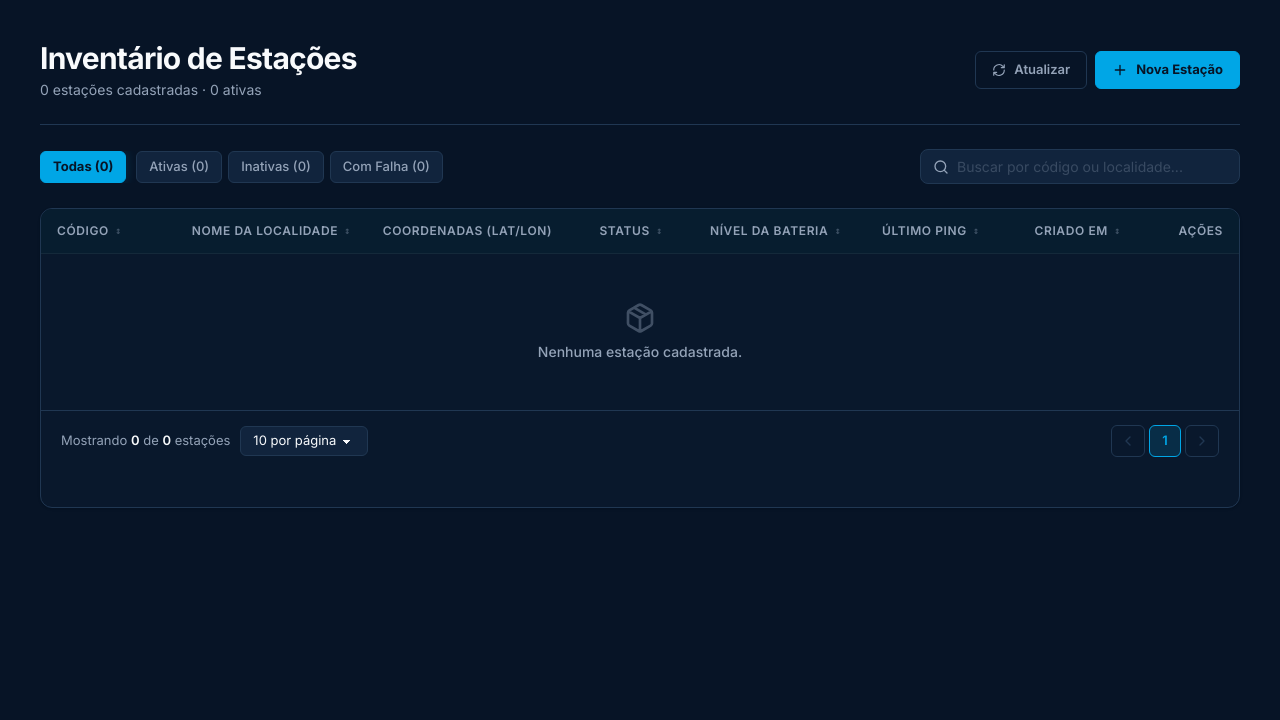
Test: Componente Stations - Casos de Uso BDD / Gherkin › Cenário 3: Tentativa de cadastro com coordenadas geográficas inválidas (latitude > 90)
Click the button with aria-label "+ Nova Estação".
click(1168, 70)  # box top-left (1095, 51), bottom-right (1240, 89)
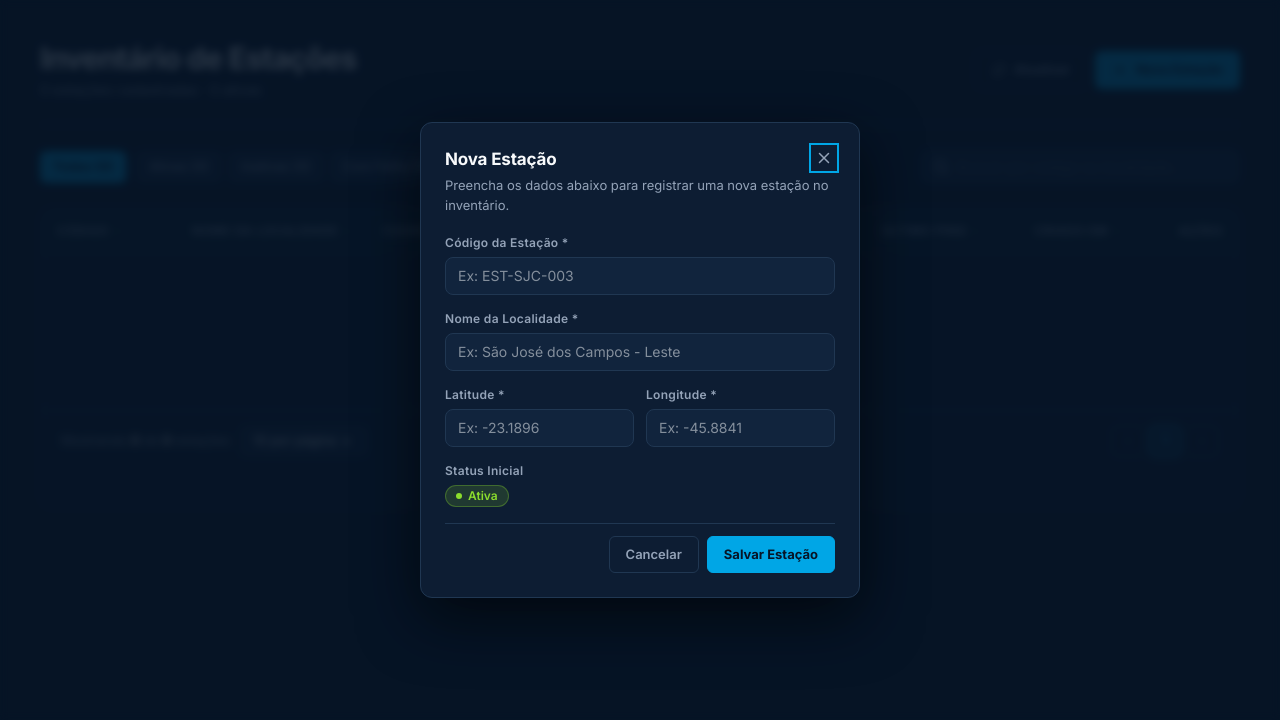
Type "EST-SJC-099" into the field labelled "Código da Estação *".
click(640, 276); type("EST-SJC-099")  # box top-left (445, 257), bottom-right (835, 295)
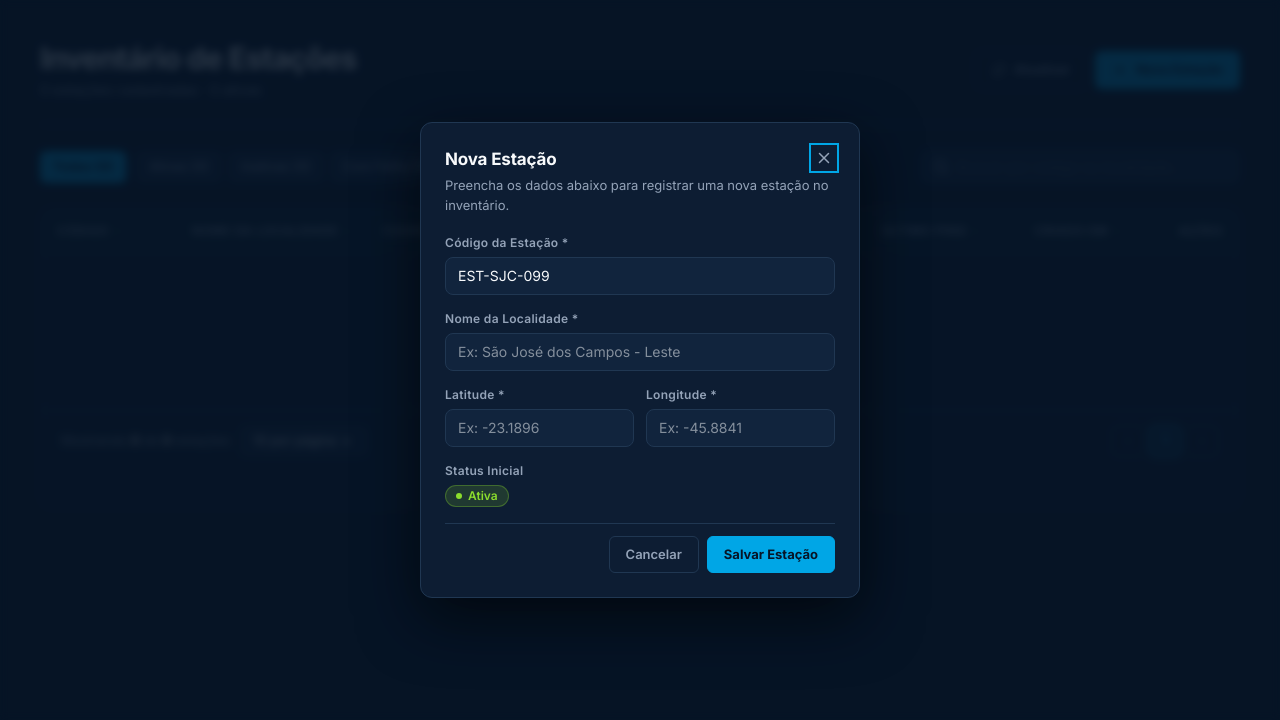
Type "Localidade Qualquer" into the field labelled "Nome da Localidade *".
click(640, 352); type("Localidade Qualquer")  # box top-left (445, 333), bottom-right (835, 371)
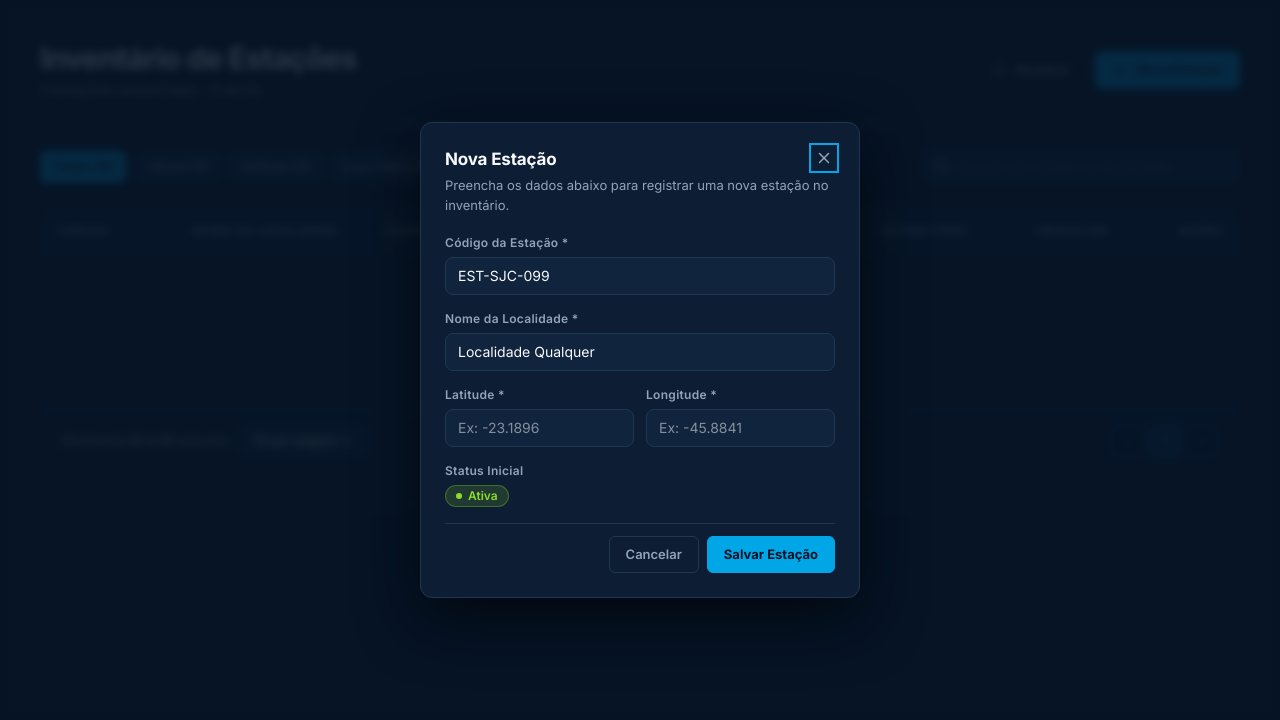
Type "92.500000" into the number field labelled "Latitude *".
click(540, 428); type("92.500000")  # box top-left (445, 409), bottom-right (634, 447)
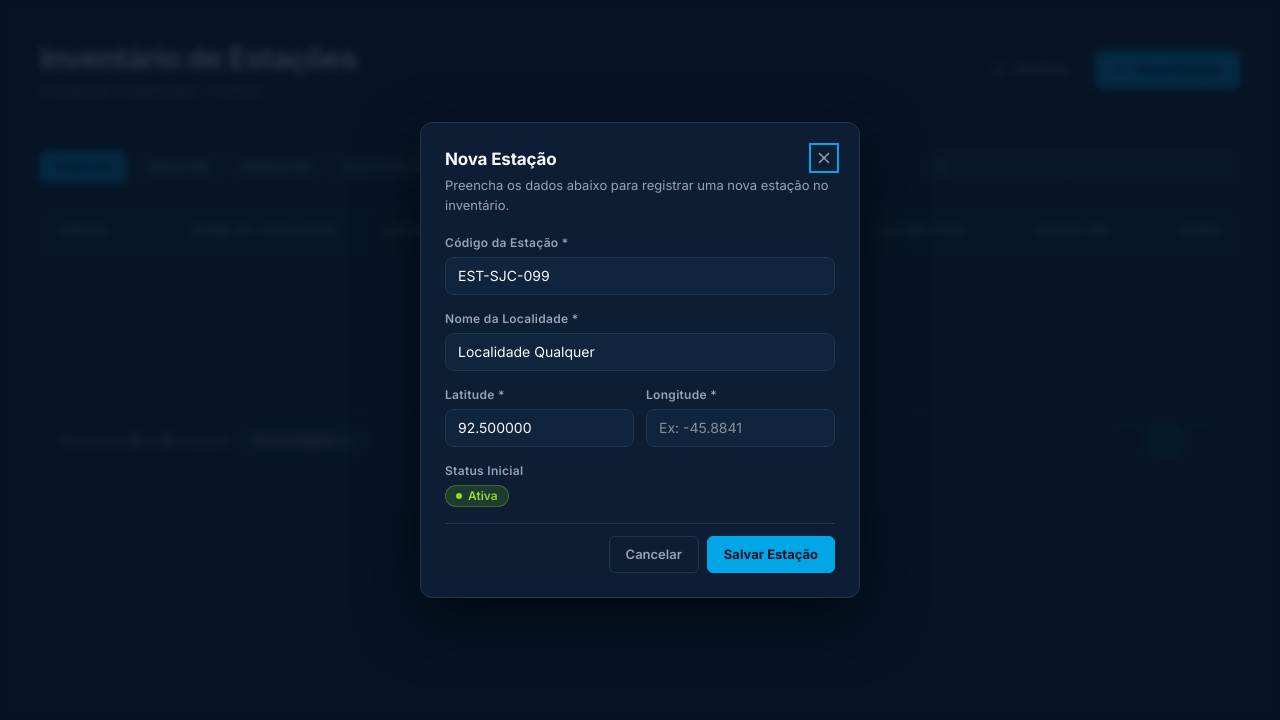
Type "-45.7922" into the number field labelled "Longitude *".
click(740, 428); type("-45.7922")  # box top-left (646, 409), bottom-right (835, 447)
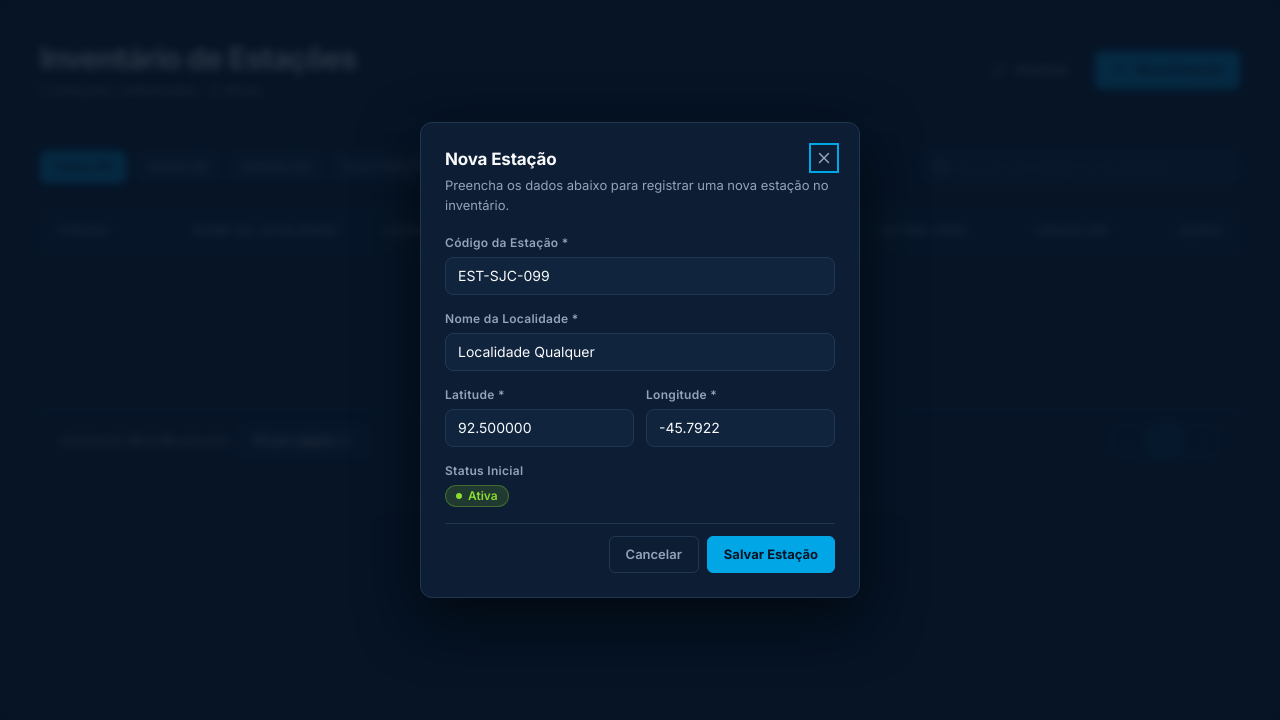
Click the button "Salvar Estação".
click(771, 555)  # box top-left (707, 536), bottom-right (835, 573)
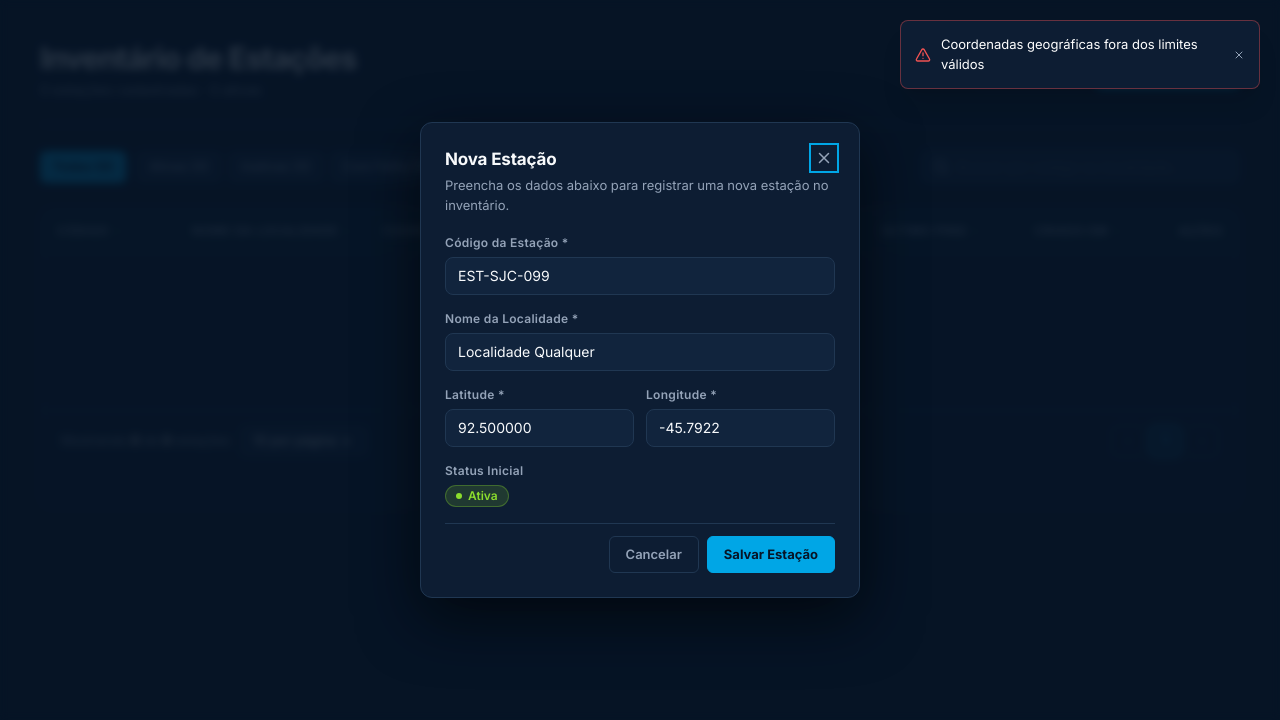
expect the text "Coordenadas geográficas fora dos limites válidos" is shown: met, box top-left (941, 35), bottom-right (1223, 74)
expect the message "Coordenadas geográficas fora dos limites válidos" is shown: met, box top-left (900, 20), bottom-right (1260, 89)
